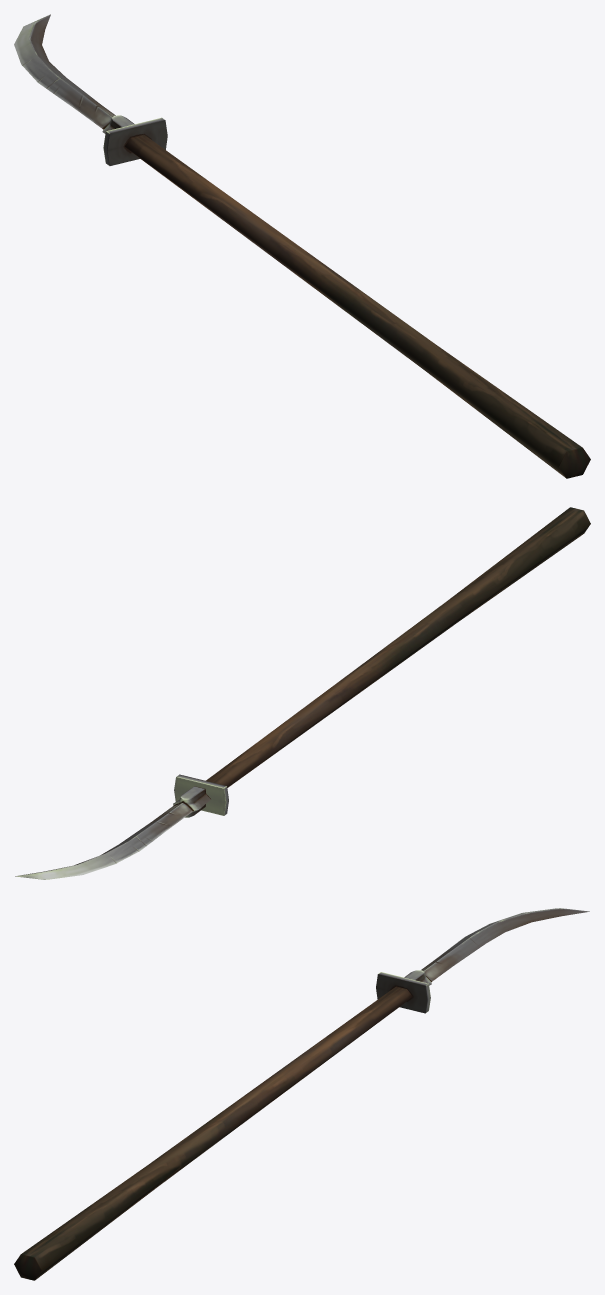
Rendered from Spear09.fbx.
The picture shows the model from 3 angles, top to bottom: view 1: azimuth 30°, elevation 25°; view 2: azimuth 150°, elevation 25°; view 3: azimuth 330°, elevation 25°; orthographic projection. The views are drawn at different scales.
Parts seen in each view (by area): view 1: Spear09_el2, Spear09_el1; view 2: Spear09_el2, Spear09_el1; view 3: Spear09_el2, Spear09_el1.
Part boxes in pixels (left/top/right/bottom): Spear09_el2: left=125, top=134, right=590, bottom=478; Spear09_el1: left=14, top=14, right=167, bottom=165; Spear09_el2: left=206, top=507, right=590, bottom=787; Spear09_el1: left=15, top=774, right=228, bottom=879; Spear09_el2: left=14, top=986, right=412, bottom=1280; Spear09_el1: left=376, top=908, right=589, bottom=1013.
Size of the model in its own units: 0.2479 by 0.0785 by 2.62.
